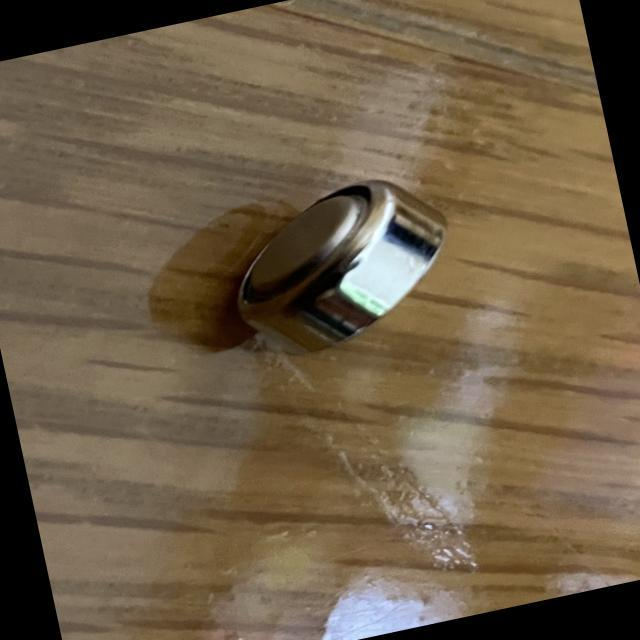COIN: (210, 162, 472, 370)
